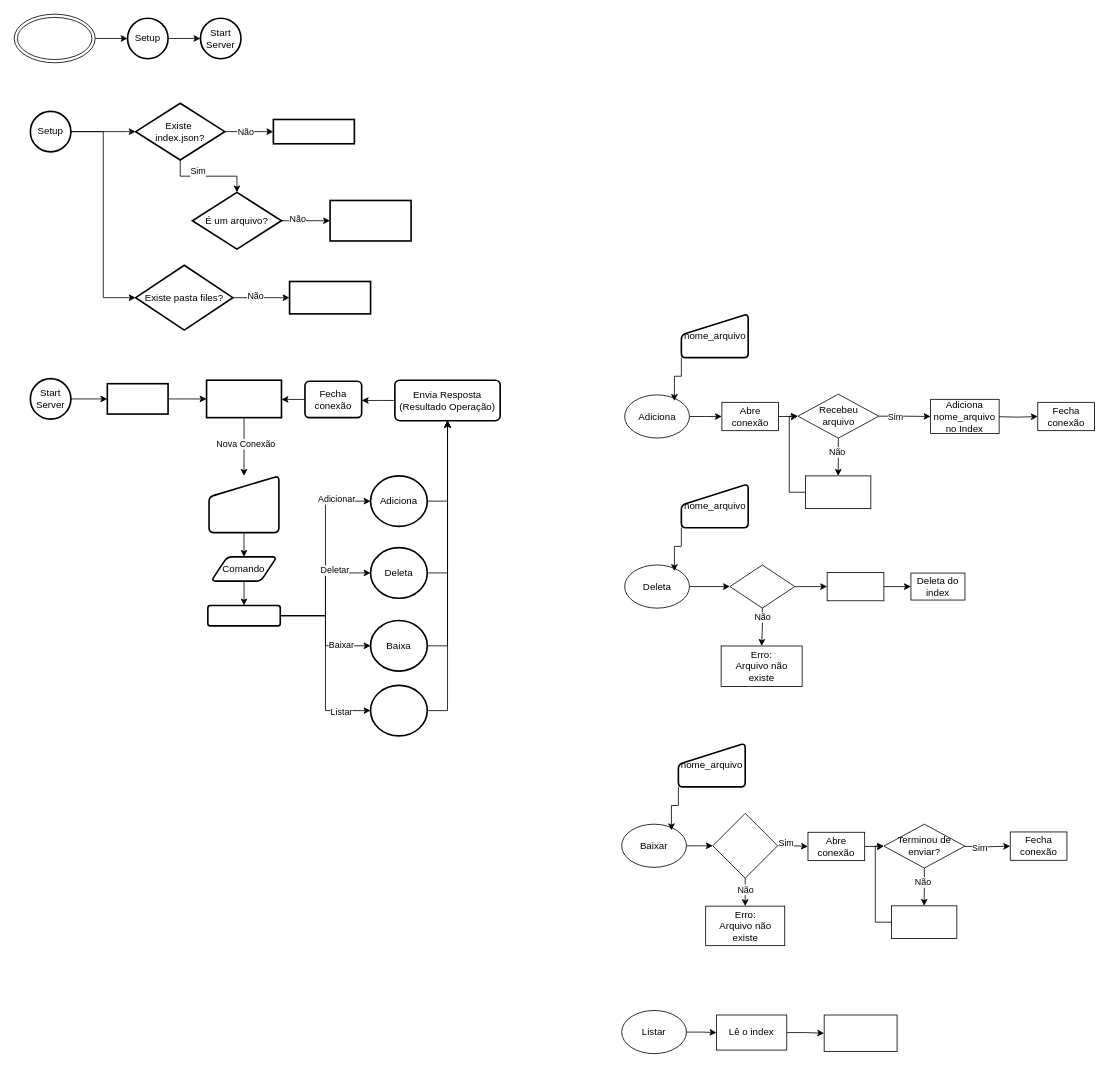
This 1109x1068 diagram has some shape labels left out. The shapes that lost their labels are listed below. From the top down, each one's centre as x and y in pixels, then its label:
At point (54, 38): "Main".
At point (313, 131): "Cria index.json".
At point (370, 220): "Apaga e cria o arquivo index.json".
At point (329, 297): "Cria a pasta files".
At point (137, 398): "Cria o socket".
At point (243, 398): "Aguarda por novas conexões".
At point (243, 504): "Recebe um comando".
At point (838, 492): "Recebe próximo pacote".
At point (762, 586): "Arquivo no index?".
At point (855, 586): "Deleta o arquivo".
At point (244, 615): "Interpretador".
At point (398, 710): "Lista".
At point (745, 845): "Arquivo existe?".
At point (924, 922): "Envia o próximo pacote".
At point (860, 1032): "Retorna Lista de arquivos".
